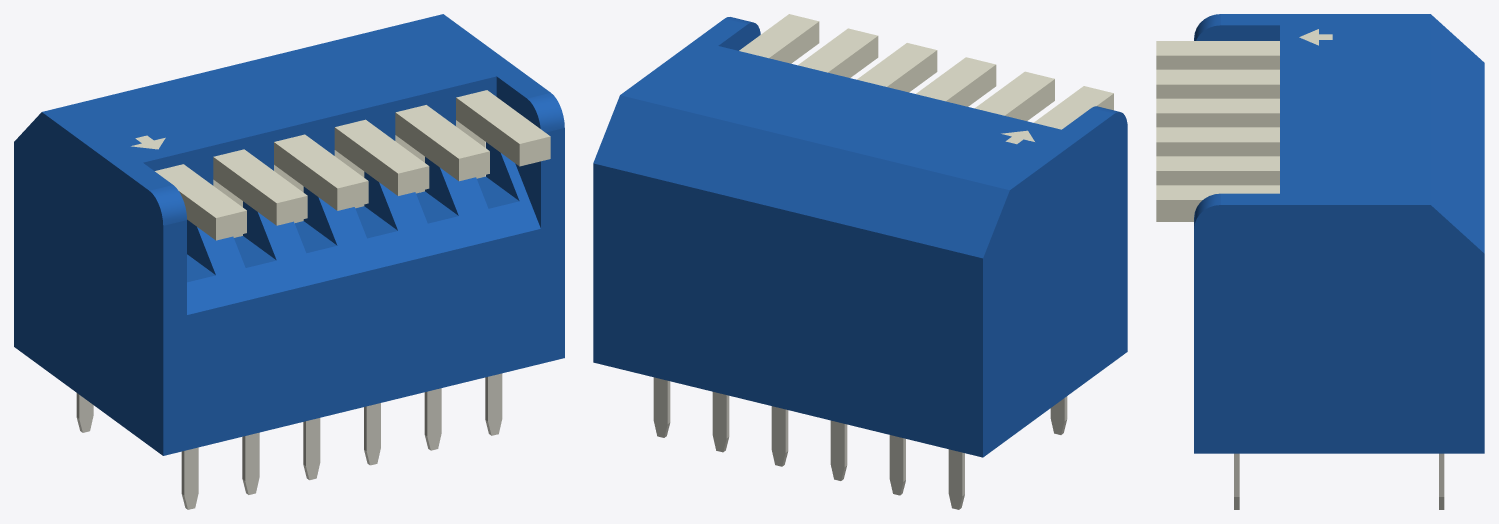
File: kc-sw_dip_spstx06_piano_10.8x16.8mm_w7.62mm_p2.54mm.glb
The picture shows the model from 3 angles, left to right: view 1: azimuth 30°, elevation 25°; view 2: azimuth 150°, elevation 25°; view 3: azimuth 270°, elevation 25°; orthographic projection. The views are drawn at different scales.
Parts seen in each view (by area): view 1: 0_0.16666666666666666_0.5_0, 0.75_0.75_0.6666666666666666_0, 0.6666666666666666_0.6666666666666666_0.5833333333333334_0.8; view 2: 0_0.16666666666666666_0.5_0, 0.75_0.75_0.6666666666666666_0, 0.6666666666666666_0.6666666666666666_0.5833333333333334_0.8; view 3: 0_0.16666666666666666_0.5_0, 0.75_0.75_0.6666666666666666_0, 0.6666666666666666_0.6666666666666666_0.5833333333333334_0.8.
Boxes of the visible parts, box(x1,y1,x2,y2) form: 0_0.16666666666666666_0.5_0: box(14, 14, 564, 455); 0.75_0.75_0.6666666666666666_0: box(131, 90, 550, 240); 0.6666666666666666_0.6666666666666666_0.5833333333333334_0.8: box(76, 373, 502, 509); 0_0.16666666666666666_0.5_0: box(593, 17, 1127, 457); 0.75_0.75_0.6666666666666666_0: box(739, 14, 1113, 144); 0.6666666666666666_0.6666666666666666_0.5833333333333334_0.8: box(653, 377, 1067, 509); 0_0.16666666666666666_0.5_0: box(1194, 14, 1484, 453); 0.75_0.75_0.6666666666666666_0: box(1156, 29, 1332, 221); 0.6666666666666666_0.6666666666666666_0.5833333333333334_0.8: box(1234, 453, 1444, 509).
Size of the model in its own units: 1.68 by 1.34 by 1.22.
